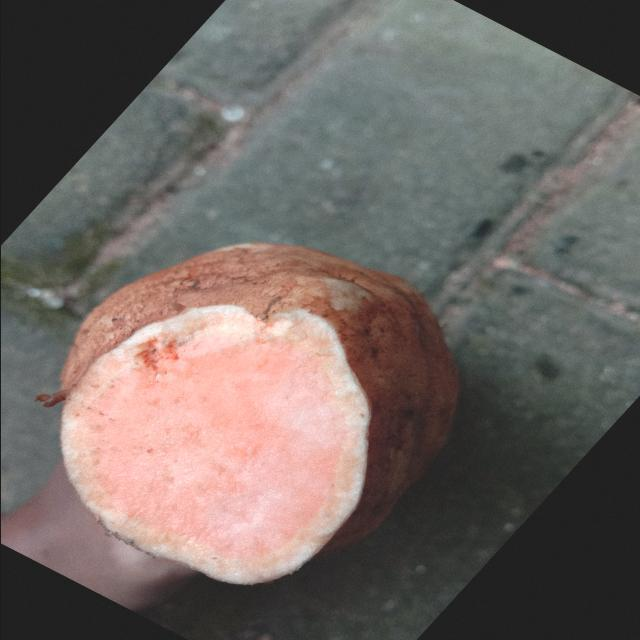Healthy Sweet Potato: (60, 305, 368, 584)
